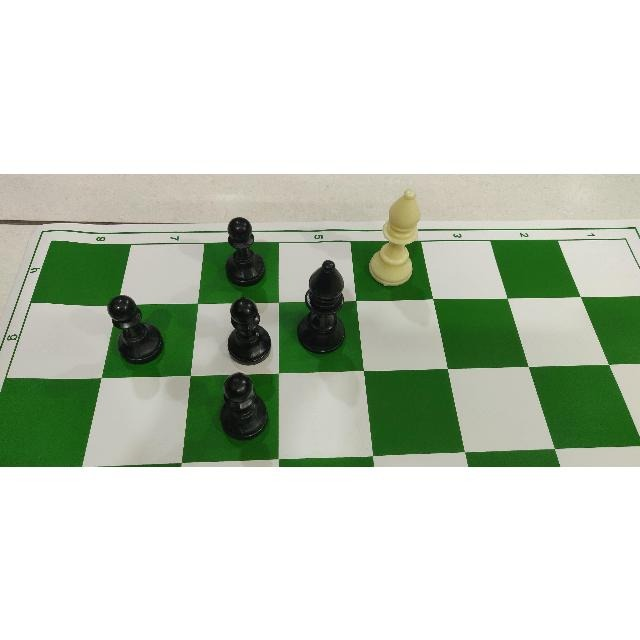black-bishop: (296, 257, 346, 354), (296, 258, 345, 353)
black-pawn: (106, 294, 163, 364), (106, 293, 163, 363), (219, 370, 268, 440), (220, 372, 268, 440), (227, 295, 271, 365), (228, 296, 272, 364), (224, 215, 265, 285), (225, 216, 265, 286)
white-bishop: (367, 188, 421, 288), (369, 188, 421, 286)
